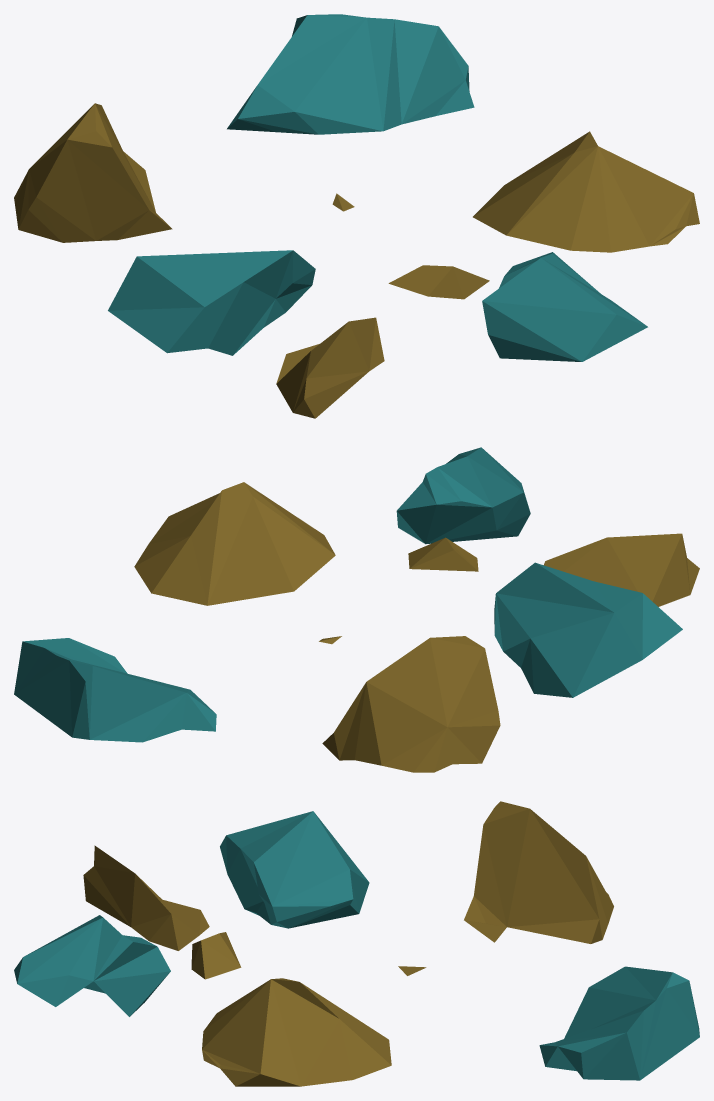
The model's file is DebrisVariety1.fbx.
3 renders of one model, top to bottom at view 1: azimuth 30°, elevation 25°; view 2: azimuth 150°, elevation 25°; view 3: azimuth 270°, elevation 25°, orthographic. The views are drawn at different scales.
Parts seen in each view (by area): view 1: DebrisV1; view 2: DebrisV1; view 3: DebrisV1.
Part boxes in pixels (<box>): DebrisV1: <box>14,14,699,418</box>; DebrisV1: <box>14,447,699,772</box>; DebrisV1: <box>14,801,699,1086</box>.
Size of the model in its own units: 2.2 by 0.5088 by 2.68.
